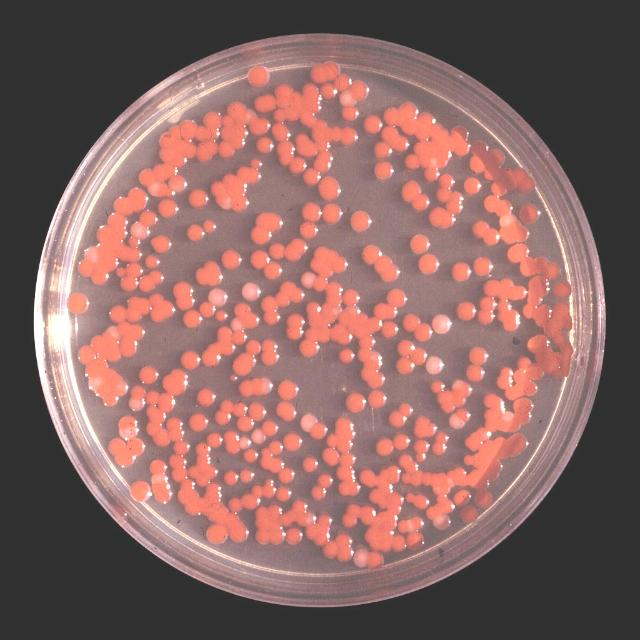colony: (522, 274, 549, 316), (544, 300, 572, 336), (520, 256, 560, 279), (149, 293, 175, 322), (422, 472, 454, 495), (499, 433, 528, 458), (162, 368, 188, 395), (381, 125, 409, 150), (426, 495, 455, 519), (221, 124, 248, 149), (196, 260, 222, 285), (202, 498, 228, 522), (311, 119, 331, 149), (211, 180, 232, 208), (427, 144, 451, 168), (150, 299, 175, 322), (429, 206, 455, 228), (514, 396, 534, 424), (232, 352, 256, 375), (222, 173, 246, 196), (305, 523, 330, 545), (295, 133, 318, 156), (319, 175, 341, 199), (128, 186, 148, 212), (256, 212, 282, 232), (160, 146, 186, 166), (415, 112, 434, 139), (285, 238, 308, 260), (196, 139, 218, 162), (498, 410, 521, 432), (228, 100, 249, 124), (373, 510, 398, 530), (276, 139, 295, 165), (248, 64, 270, 86), (100, 339, 121, 362), (119, 415, 139, 439), (436, 389, 456, 413), (275, 83, 294, 108), (228, 520, 249, 542), (178, 483, 200, 504), (350, 210, 371, 232), (330, 323, 352, 344), (201, 343, 221, 366), (128, 295, 151, 315), (401, 179, 421, 202), (68, 292, 89, 313), (151, 482, 172, 503), (278, 379, 299, 400), (249, 114, 270, 135), (206, 523, 228, 543), (85, 358, 109, 376), (374, 302, 398, 320), (236, 166, 261, 183), (130, 480, 151, 500), (345, 392, 366, 412), (419, 253, 439, 274), (321, 302, 341, 323), (508, 243, 529, 263), (519, 203, 540, 223), (254, 93, 276, 112), (174, 139, 196, 158), (501, 308, 520, 330), (528, 334, 550, 353), (532, 304, 551, 326), (148, 180, 174, 196), (314, 150, 332, 173), (496, 366, 514, 389), (152, 163, 176, 180), (276, 400, 296, 420), (189, 412, 209, 432), (180, 349, 200, 369), (431, 313, 451, 333), (208, 286, 228, 306), (189, 188, 209, 208), (301, 202, 321, 222), (322, 203, 342, 223), (410, 234, 430, 254), (450, 408, 470, 428), (301, 93, 321, 113), (379, 465, 400, 484), (350, 79, 369, 100), (468, 470, 489, 489), (96, 254, 118, 272), (406, 493, 430, 509), (139, 365, 159, 384), (335, 416, 354, 436), (399, 453, 419, 472), (365, 525, 384, 545), (222, 249, 241, 269), (250, 249, 270, 268), (151, 234, 171, 253), (130, 220, 150, 239), (114, 196, 134, 215), (251, 225, 271, 244), (380, 263, 400, 282), (469, 345, 489, 364), (451, 379, 471, 398), (374, 160, 394, 179), (448, 466, 468, 485), (119, 335, 137, 356), (158, 198, 179, 216), (500, 168, 518, 189), (119, 245, 141, 262), (126, 436, 145, 455), (460, 504, 479, 523), (425, 355, 444, 374), (96, 224, 115, 243), (202, 110, 221, 129), (302, 166, 321, 185), (499, 224, 518, 243), (146, 405, 166, 423), (78, 344, 96, 364), (414, 322, 432, 342), (241, 282, 261, 300), (168, 174, 188, 192), (386, 288, 406, 306), (451, 262, 471, 280), (458, 300, 476, 320), (520, 255, 538, 275), (158, 392, 175, 413), (181, 119, 198, 140), (484, 393, 505, 410), (225, 430, 240, 453), (368, 389, 386, 408), (300, 413, 318, 432), (322, 446, 340, 465), (406, 530, 424, 549), (474, 489, 492, 508), (300, 338, 319, 356), (402, 313, 420, 332), (396, 356, 415, 374), (184, 309, 202, 328), (264, 260, 282, 279), (374, 254, 392, 273), (474, 256, 492, 275), (466, 364, 485, 382), (271, 122, 290, 140), (340, 125, 358, 144), (364, 114, 382, 133), (320, 246, 339, 264), (486, 148, 505, 166), (465, 432, 484, 450), (115, 449, 135, 466), (108, 212, 128, 229), (364, 244, 381, 264), (399, 102, 419, 119), (414, 139, 434, 156), (251, 378, 272, 394), (159, 130, 180, 146), (401, 469, 422, 485), (284, 432, 302, 450), (248, 402, 266, 420), (152, 428, 170, 446), (410, 346, 428, 364), (367, 370, 385, 388), (231, 194, 249, 212), (300, 220, 318, 238), (381, 320, 399, 338), (374, 140, 392, 158), (472, 220, 490, 238), (309, 422, 328, 439), (126, 323, 145, 340), (186, 223, 205, 240), (139, 209, 158, 226), (289, 155, 306, 174), (299, 109, 316, 128), (411, 193, 430, 210), (112, 376, 128, 396), (172, 280, 192, 296), (310, 63, 326, 83), (339, 480, 360, 495), (499, 278, 514, 299), (185, 496, 202, 514), (285, 526, 302, 544), (376, 438, 394, 455), (198, 388, 215, 406), (236, 415, 254, 432), (322, 540, 339, 558), (336, 545, 354, 562), (78, 258, 95, 276), (139, 168, 156, 186), (256, 136, 274, 153), (342, 288, 360, 305), (218, 140, 235, 158), (464, 176, 481, 194), (482, 228, 500, 245), (495, 198, 512, 216), (554, 280, 571, 298), (241, 493, 260, 509), (109, 436, 125, 455), (360, 505, 376, 524), (336, 464, 355, 480), (110, 304, 126, 323), (176, 294, 195, 310), (240, 312, 259, 328), (120, 274, 139, 290), (324, 62, 340, 81), (415, 415, 435, 430), (102, 368, 122, 383), (302, 455, 319, 472), (261, 419, 278, 436), (344, 503, 361, 520), (359, 469, 376, 486), (398, 339, 415, 356), (261, 295, 278, 312), (334, 73, 351, 90), (452, 138, 469, 155), (392, 433, 410, 449), (354, 548, 370, 566), (368, 550, 384, 568), (432, 513, 450, 529), (139, 274, 155, 292), (91, 268, 109, 284), (364, 353, 382, 369), (320, 82, 338, 98), (400, 118, 418, 134), (332, 255, 348, 273), (519, 174, 535, 192), (526, 363, 544, 379), (90, 334, 105, 353), (385, 106, 400, 125), (470, 154, 485, 173), (509, 285, 528, 300), (470, 140, 489, 155), (545, 260, 560, 279), (296, 512, 316, 526), (224, 512, 241, 528), (279, 509, 295, 526), (279, 466, 295, 483), (389, 410, 406, 426), (408, 515, 424, 532), (454, 489, 471, 505), (199, 300, 216, 316), (269, 242, 285, 259), (312, 275, 328, 292), (351, 322, 368, 338), (339, 309, 356, 325), (195, 125, 211, 142), (303, 82, 320, 98), (339, 89, 356, 105), (150, 459, 168, 474), (270, 526, 285, 544), (386, 492, 404, 507), (391, 534, 406, 552), (301, 270, 316, 288), (341, 105, 359, 120), (485, 194, 500, 212), (485, 415, 500, 433), (498, 299, 511, 319), (206, 432, 222, 448), (202, 464, 218, 480), (245, 339, 261, 355), (126, 306, 142, 322), (475, 426, 491, 442), (291, 499, 308, 514), (276, 485, 291, 502), (335, 533, 352, 548), (239, 379, 254, 396), (269, 456, 284, 473), (325, 280, 342, 295), (452, 125, 469, 140), (478, 309, 495, 324), (485, 279, 500, 296), (491, 180, 508, 195), (261, 350, 279, 364), (286, 313, 305, 326), (516, 223, 529, 242), (255, 528, 270, 544), (215, 409, 231, 424), (251, 428, 266, 444), (169, 426, 184, 442), (174, 439, 190, 454), (336, 438, 352, 453), (369, 488, 385, 503), (339, 348, 355, 363), (106, 324, 121, 340), (219, 340, 235, 355), (98, 239, 122, 249), (405, 153, 420, 169), (439, 173, 455, 188), (436, 186, 451, 202), (314, 245, 330, 260), (480, 295, 496, 310), (169, 454, 186, 468), (171, 468, 188, 482), (88, 375, 102, 392), (218, 325, 232, 342), (125, 262, 142, 276), (84, 245, 98, 262), (308, 312, 325, 326), (368, 316, 382, 333), (445, 200, 462, 214), (311, 256, 325, 273), (499, 212, 516, 226), (286, 326, 304, 339), (239, 468, 254, 483), (306, 300, 321, 315), (284, 105, 299, 120), (268, 440, 284, 454), (232, 402, 248, 416), (130, 385, 146, 399), (146, 389, 160, 405), (342, 512, 358, 526), (414, 439, 430, 453), (264, 310, 280, 324), (280, 280, 296, 294), (290, 286, 304, 302), (359, 334, 375, 348), (359, 348, 375, 362), (424, 166, 440, 180), (229, 496, 242, 513), (234, 303, 251, 316), (484, 408, 504, 419), (224, 470, 239, 484), (318, 473, 332, 488), (311, 485, 326, 499), (244, 448, 259, 462), (430, 379, 445, 393), (230, 316, 245, 330), (275, 292, 290, 306), (145, 254, 160, 268), (149, 269, 164, 283), (361, 366, 376, 380), (522, 303, 536, 318), (291, 90, 302, 109), (205, 482, 221, 495), (129, 397, 145, 410), (146, 422, 162, 435), (166, 416, 182, 429), (339, 452, 355, 465), (319, 262, 332, 278), (525, 379, 538, 395), (102, 393, 119, 405), (262, 484, 276, 498), (220, 399, 234, 413), (96, 382, 110, 396), (232, 330, 246, 344), (202, 219, 216, 233), (449, 190, 464, 203), (318, 326, 330, 342), (151, 473, 168, 484), (261, 339, 278, 350), (331, 125, 342, 142), (261, 455, 274, 469), (305, 326, 318, 340), (518, 355, 531, 369), (528, 291, 542, 304), (189, 464, 201, 479), (316, 514, 331, 526), (342, 304, 360, 314), (514, 368, 526, 383), (399, 403, 412, 416), (215, 309, 228, 322), (196, 442, 210, 454), (239, 435, 251, 449), (196, 454, 210, 466), (432, 442, 446, 454), (398, 519, 410, 533), (169, 125, 181, 139), (274, 108, 286, 122), (195, 474, 210, 485), (268, 505, 282, 516), (251, 484, 262, 498), (435, 432, 449, 443), (327, 293, 341, 304), (256, 506, 268, 518), (328, 433, 339, 446), (113, 228, 126, 239), (181, 479, 195, 489), (223, 115, 235, 126), (388, 505, 401, 515), (210, 126, 220, 139), (316, 140, 329, 150), (129, 235, 140, 246), (250, 158, 262, 168), (405, 492, 415, 503), (484, 169, 495, 179), (464, 454, 474, 465), (416, 452, 426, 462), (261, 446, 271, 455), (117, 266, 126, 276), (265, 478, 274, 485), (230, 374, 238, 380)
